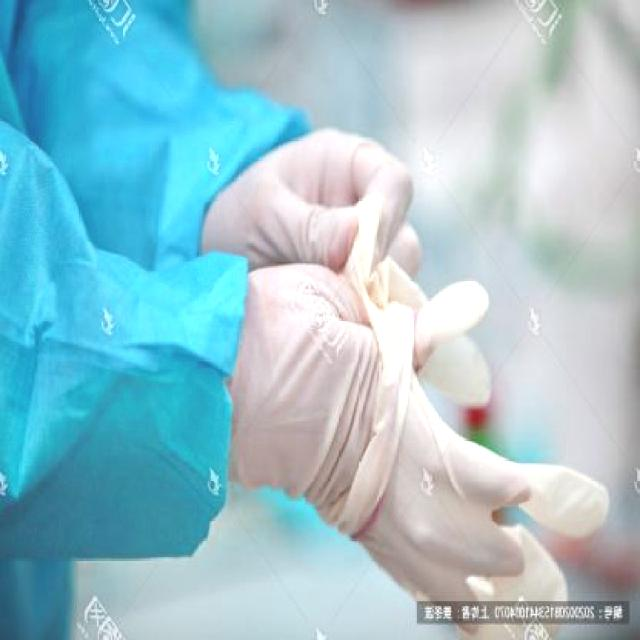hand_glove: (242, 256, 522, 615), (209, 120, 425, 320)
